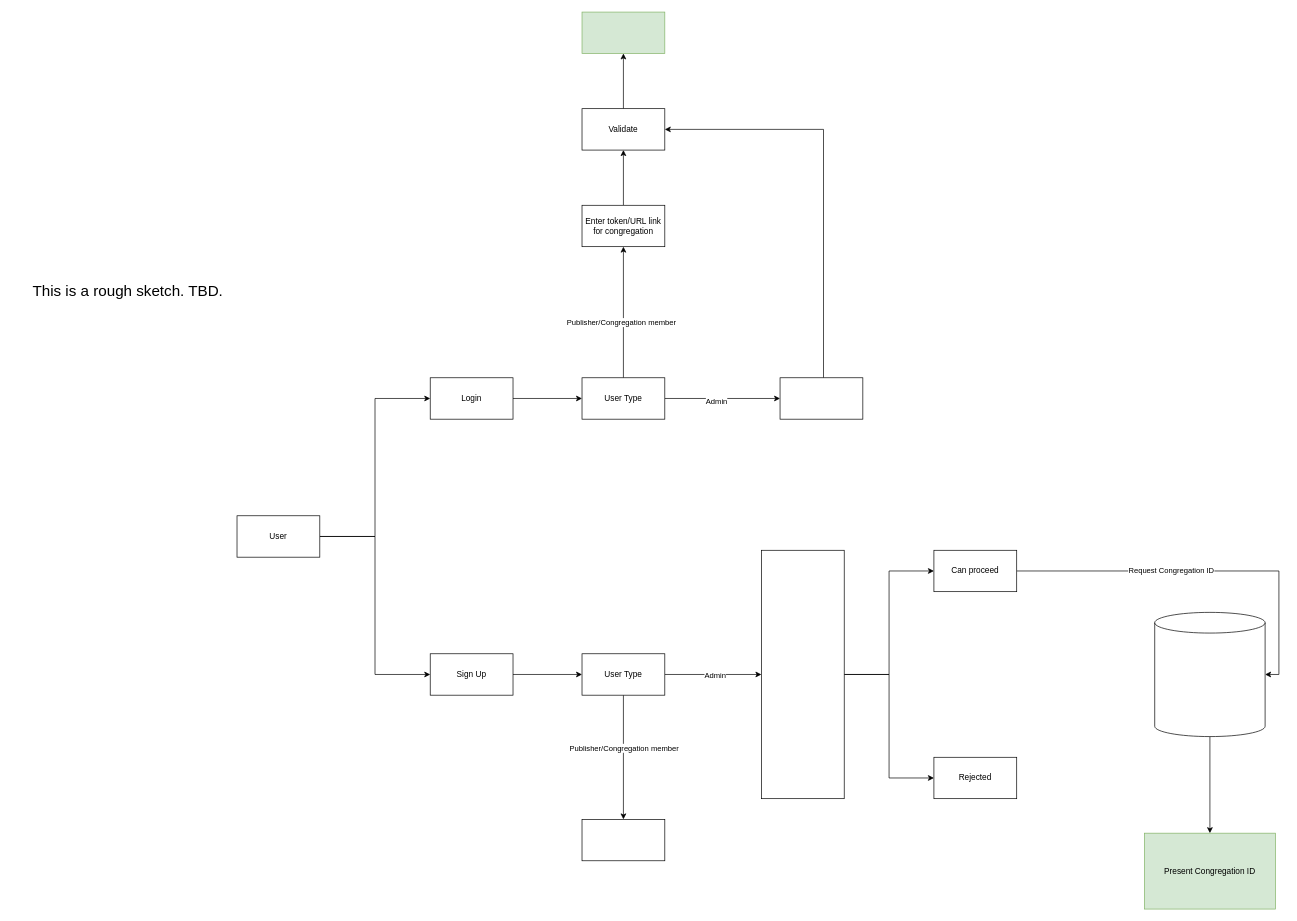
The diagram is 1297 pixels wide and 921 high, and some of its shapes have lost their labels. The box of each missing label's shape, as (x1, y1, x2, y2) in pixels:
Backend: (1154, 612, 1265, 737)
Barrier (Do we want verification before we let them proceed here?): (761, 550, 844, 799)
Email/password/2FA: (779, 377, 863, 419)
Invite with token only??: (581, 819, 665, 861)
Login!: (581, 11, 665, 53)
